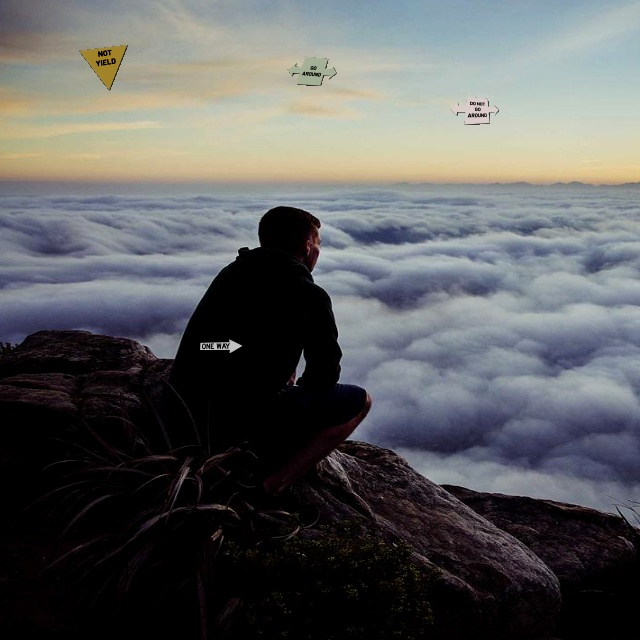DO_NOT_GO_AROUND: (449, 96, 499, 125)
GO_AROUND: (287, 56, 337, 86)
NOT_YIELD: (78, 44, 128, 91)
ONE_WAY_ right: (197, 338, 247, 354)
